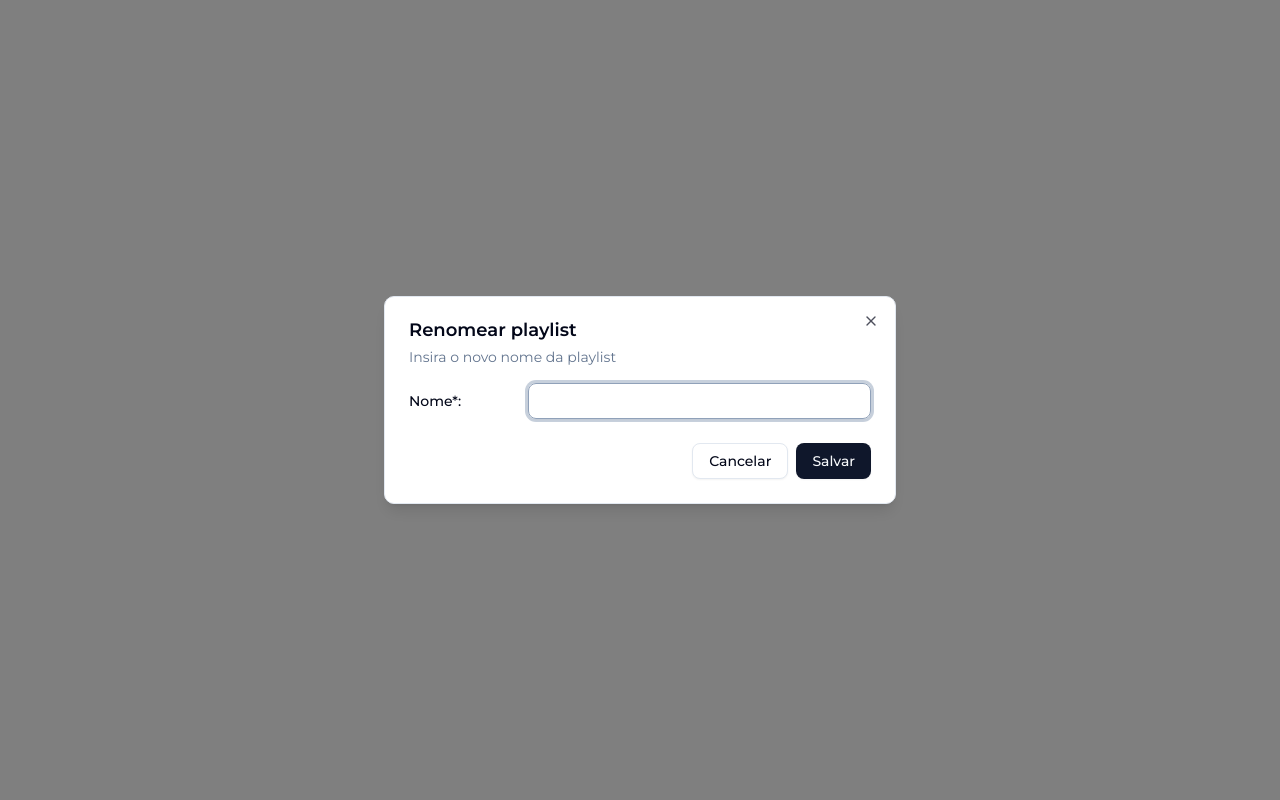
Test: <UpdatePlaylistContent /> › mostra erro de validação quando o nome é muito curto
Type "ab" into the field labelled "Nome*:" at (699, 401), box [528,383,871,419]
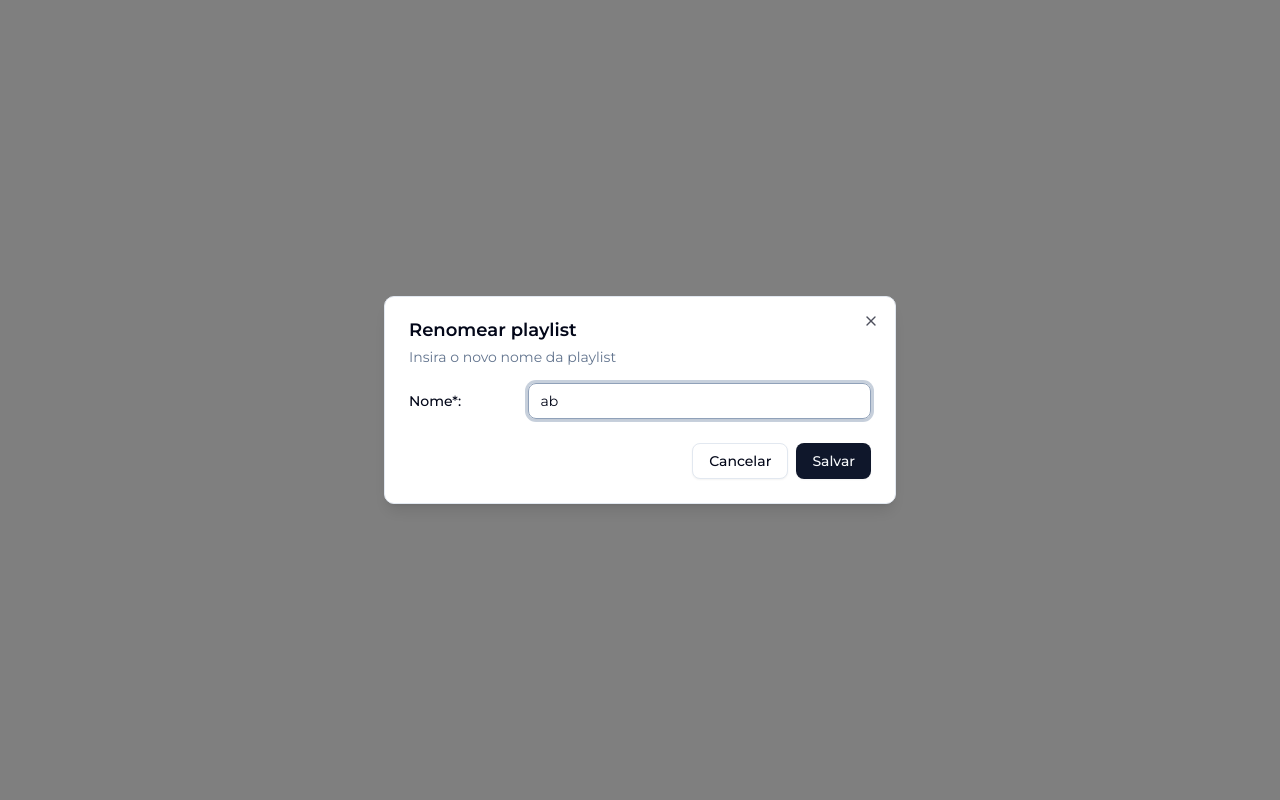
Click the button "Salvar" at (834, 461), box [796,443,871,479]
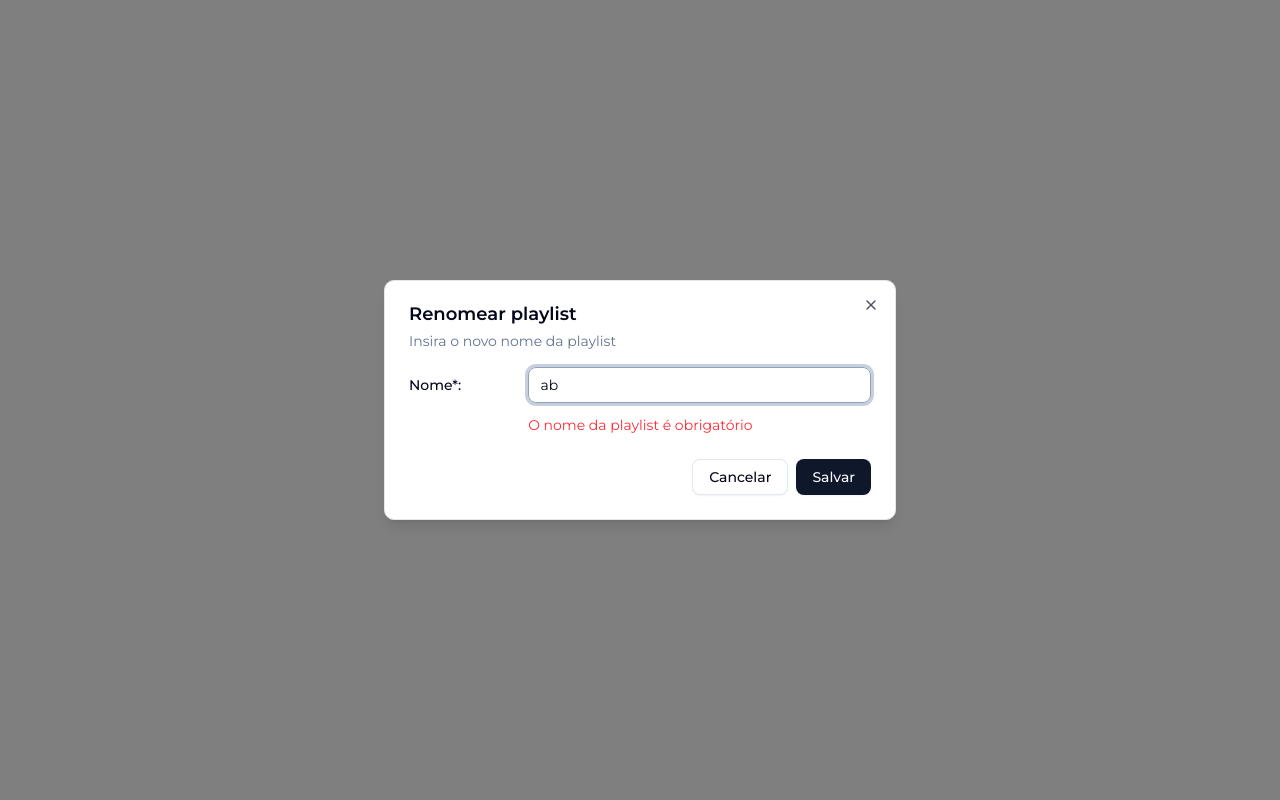
Result: the text "O nome da playlist é obrigatório" is shown at [528,416,752,434]
